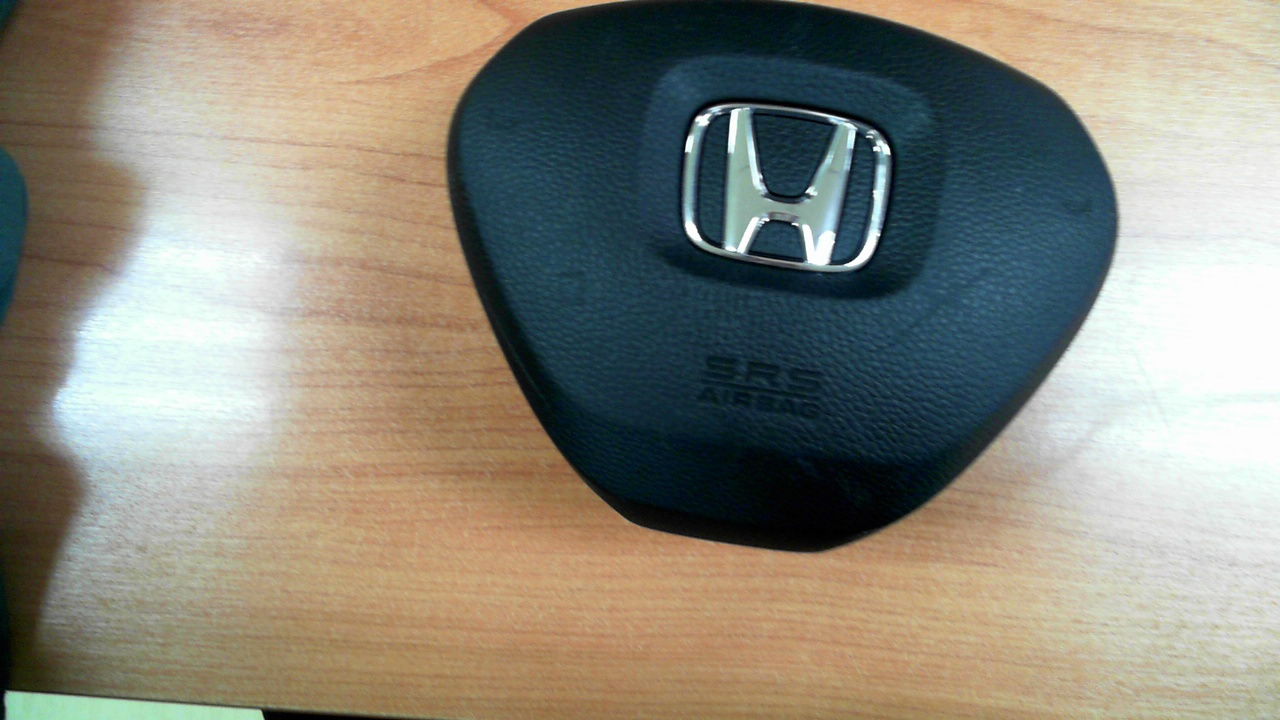Airbag: (444, 5, 1121, 557)
Honda: (682, 103, 892, 273)
